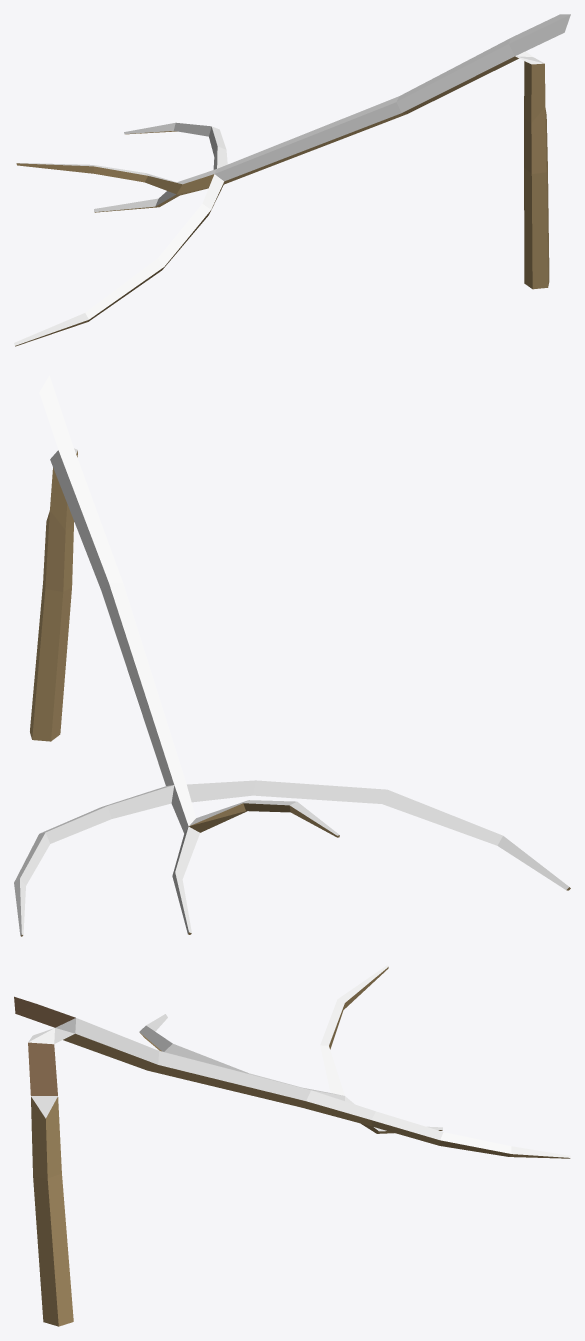
Rendered from Acacia_Tree_NoLeaves_crk_m_Snow_01_LOD.fbx.
3 views of the same model, one above another, from view 1: azimuth 30°, elevation 25°; view 2: azimuth 150°, elevation 25°; view 3: azimuth 270°, elevation 25° (orthographic). The views are drawn at different scales.
Parts seen in each view (by area): view 1: Acacia_Tree_NoLeaves_crk_m_Snow_01_LOD0; view 2: Acacia_Tree_NoLeaves_crk_m_Snow_01_LOD0; view 3: Acacia_Tree_NoLeaves_crk_m_Snow_01_LOD0.
Boxes of the visible parts, x1,y1,x2,y2 form: Acacia_Tree_NoLeaves_crk_m_Snow_01_LOD0: (14, 14, 570, 346); Acacia_Tree_NoLeaves_crk_m_Snow_01_LOD0: (14, 375, 570, 936); Acacia_Tree_NoLeaves_crk_m_Snow_01_LOD0: (14, 965, 570, 1326).
Size of what is drawn, in the model's own units: 674 by 366 by 557.
